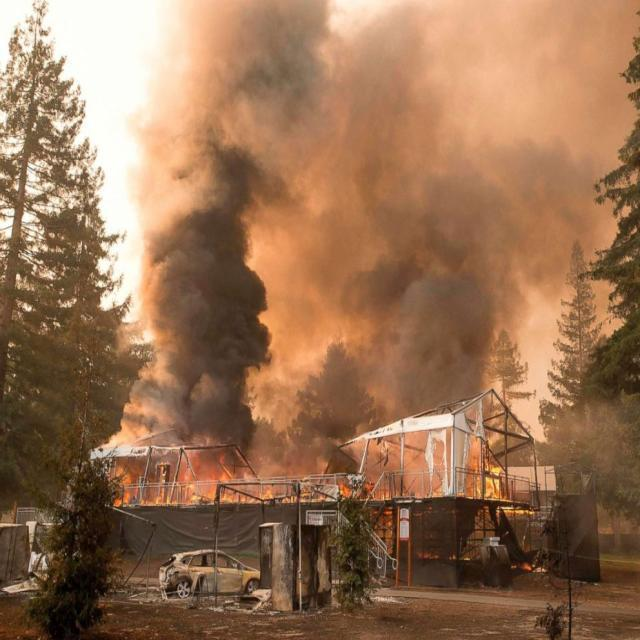Fire: (92, 379, 228, 506), (0, 109, 24, 159)
Smoke: (150, 75, 541, 308)
